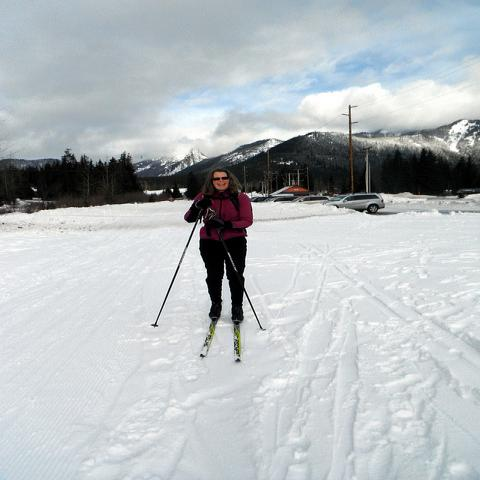car: (318, 191, 387, 214), (279, 196, 330, 203), (266, 195, 300, 203), (250, 196, 270, 203)
